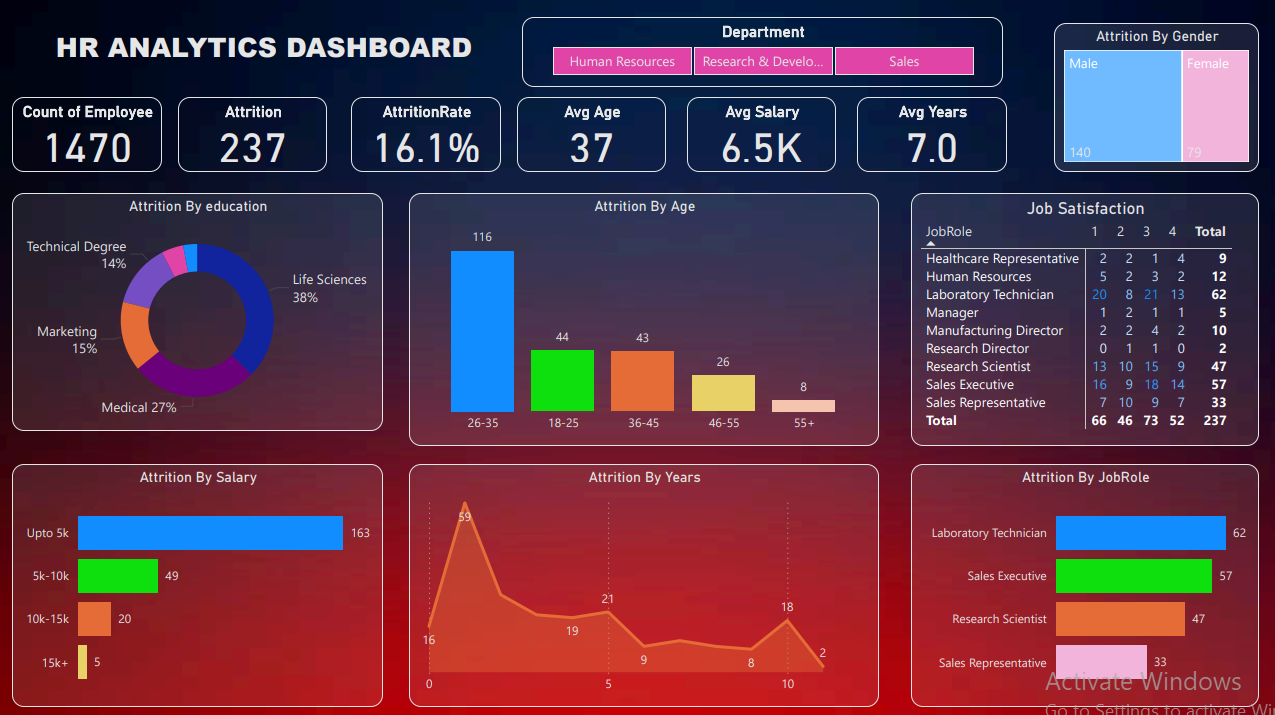

Layout of this report page (visuals, bound fields, positions):
{"tool":"powerbi","page":{"name":"Page 1","canvas":[1280,720],"ordinal":0},"visuals":[{"type":"card","title":"Count of Employee","fields":{"Values":["CountNonNull(HR_Analytics.EmpID)"]},"box":[14.5,98.9,149.6,74.8],"z":0},{"type":"card","title":"Attrition","fields":{"Values":["Sum(HR_Analytics.Attritioncount)"]},"box":[179.8,98.9,149.6,74.8],"z":1},{"type":"card","title":"AttritionRate","fields":{"Values":["HR_Analytics.AttritionRate"]},"box":[353.5,98.9,149.6,74.8],"z":2},{"type":"card","title":"Avg Age","fields":{"Values":["Avg(HR_Analytics.Age)"]},"box":[518.8,98.9,149.6,74.8],"z":3},{"type":"card","title":"Avg Salary","fields":{"Values":["Avg(HR_Analytics.MonthlyIncome)"]},"box":[688.9,98.9,149.6,74.8],"z":4},{"type":"card","title":"Avg Years","fields":{"Values":["Avg(HR_Analytics.YearsAtCompany)"]},"box":[859,98.9,149.6,74.8],"z":5},{"type":"donutChart","title":"Attrition By education","fields":{"Category":["HR_Analytics.EducationField"],"Y":["Sum(HR_Analytics.Attritioncount)"]},"box":[14.5,195.4,370.4,237.7],"z":6},{"type":"columnChart","title":"Attrition By Age","fields":{"Category":["HR_Analytics.AgeGroup"],"Y":["Sum(HR_Analytics.Attritioncount)"]},"box":[411.4,195.4,469.3,252.1],"z":7},{"type":"pivotTable","title":"Job Satisfaction","fields":{"Rows":["HR_Analytics.JobRole"],"Columns":["HR_Analytics.JobSatisfaction"],"Values":["Sum(HR_Analytics.Attritioncount)"]},"box":[913.3,195.4,347.5,252.1],"z":8},{"type":"barChart","title":"Attrition By Salary","fields":{"Category":["HR_Analytics.SalarySlab"],"Y":["Sum(HR_Analytics.Attritioncount)"]},"box":[14.5,465.7,370.4,243.7],"z":9},{"type":"barChart","title":"Attrition By JobRole","fields":{"Y":["Sum(HR_Analytics.Attritioncount)"],"Category":["HR_Analytics.JobRole"]},"box":[913.3,465.7,347.5,243.7],"z":10},{"type":"areaChart","title":"Attrition By Years","fields":{"Category":["HR_Analytics.YearsAtCompany"],"Y":["Sum(HR_Analytics.Attritioncount)"]},"box":[411.4,465.7,469.3,243.7],"z":11},{"type":"treemap","title":"Attrition By Gender","fields":{"Group":["HR_Analytics.Gender"],"Values":["Sum(HR_Analytics.Attritioncount)"]},"box":[1055.6,25.3,205.1,148.4],"z":12},{"type":"slicer","title":"Department","fields":{"Values":["HR_Analytics.Department"]},"box":[523.6,19.3,481.4,70],"z":13},{"type":"textbox","box":[0,25.3,532,57.9],"z":14}]}

Visuals, with their boxes in screenshot pixels (x1, y1, x2, y2):
"Count of Employee" card: (left=0, top=90, right=150, bottom=166)
"Attrition" card: (left=166, top=90, right=317, bottom=166)
"AttritionRate" card: (left=342, top=90, right=493, bottom=166)
"Avg Age" card: (left=509, top=90, right=661, bottom=166)
"Avg Salary" card: (left=682, top=90, right=833, bottom=166)
"Avg Years" card: (left=854, top=90, right=1006, bottom=166)
"Attrition By education" donutChart: (left=0, top=188, right=374, bottom=429)
"Attrition By Age" columnChart: (left=400, top=188, right=876, bottom=444)
"Job Satisfaction" pivotTable: (left=909, top=188, right=1261, bottom=444)
"Attrition By Salary" barChart: (left=0, top=462, right=374, bottom=709)
"Attrition By JobRole" barChart: (left=909, top=462, right=1261, bottom=709)
"Attrition By Years" areaChart: (left=400, top=462, right=876, bottom=709)
"Attrition By Gender" treemap: (left=1053, top=16, right=1261, bottom=166)
"Department" slicer: (left=514, top=10, right=1002, bottom=81)
textbox: (left=0, top=16, right=523, bottom=74)
